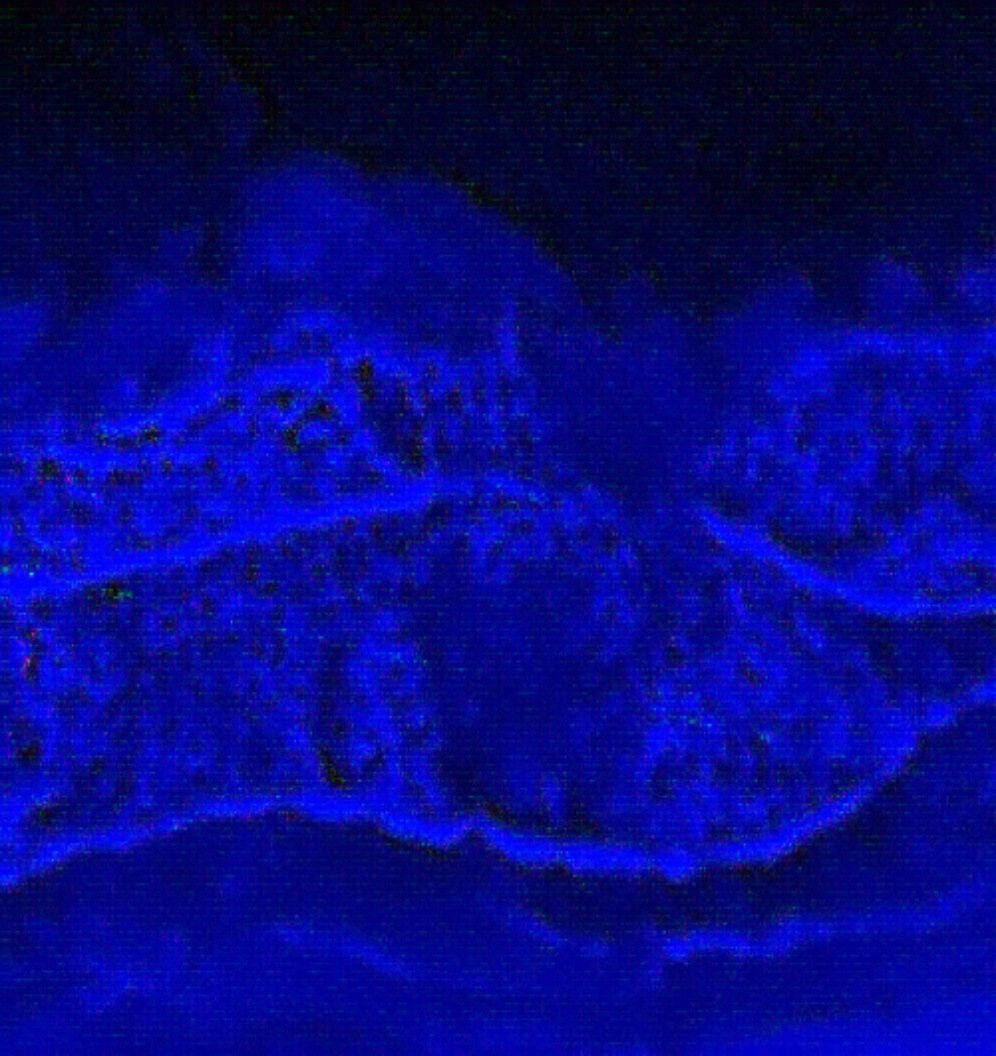rip_current: (312, 187, 756, 874)
